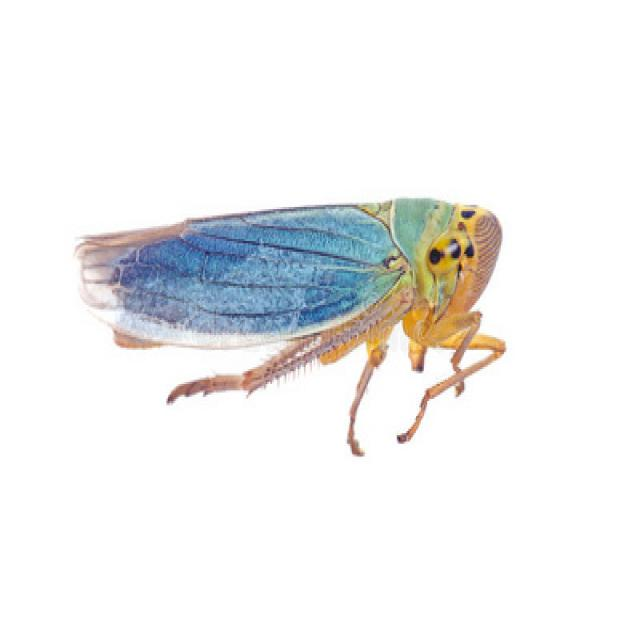Yechan: (66, 192, 508, 411)
